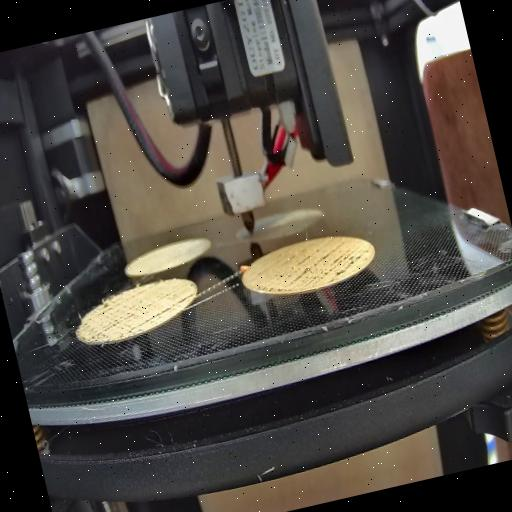under_extrusion: (249, 240, 376, 296), (72, 282, 176, 344), (174, 286, 200, 308)
